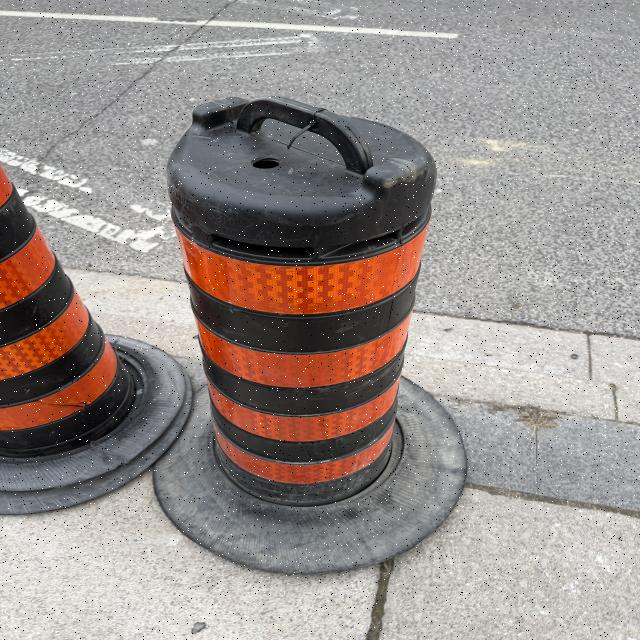Teraffic Barrel: (154, 97, 466, 573), (0, 169, 191, 514)
